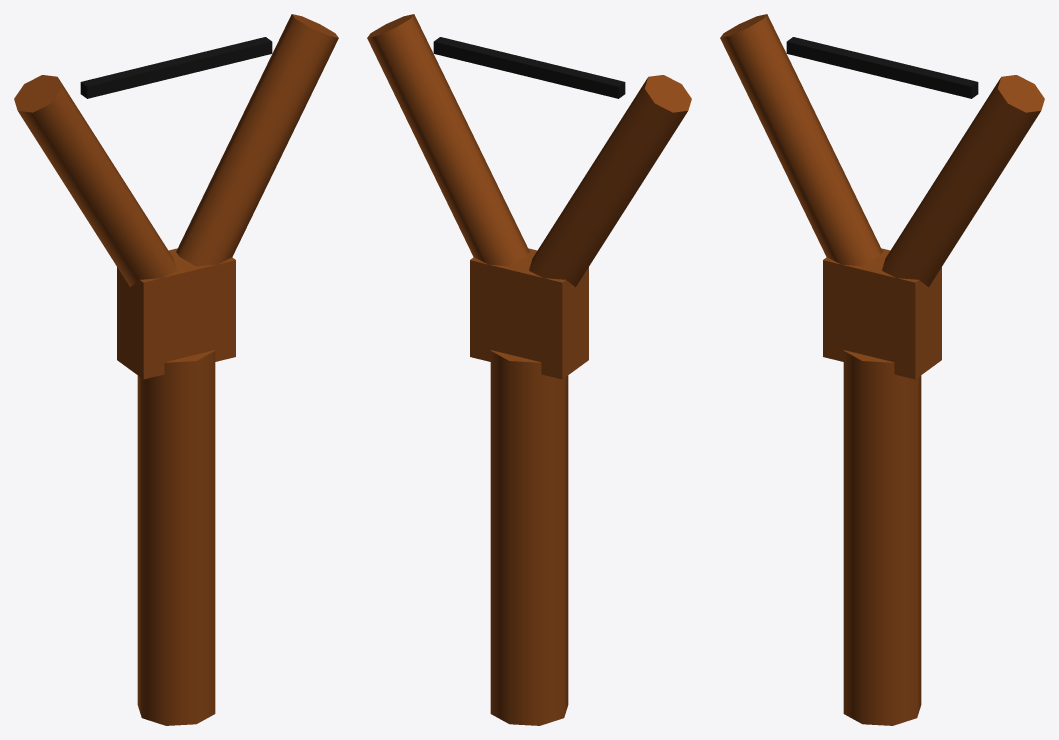
The model's file is slingshot.glb.
3 renders of one model, left to right at view 1: azimuth 30°, elevation 25°; view 2: azimuth 150°, elevation 25°; view 3: azimuth 330°, elevation 25°, orthographic.
Bounding box in the file's own units: 0.1373 × 0.2733 × 0.03.
